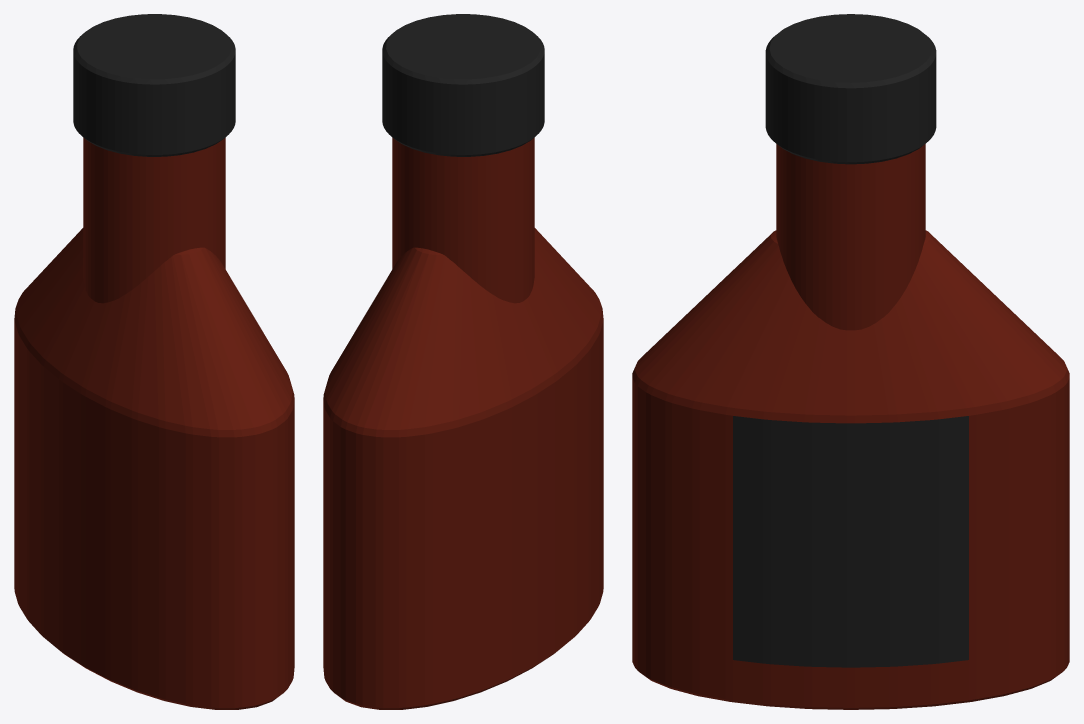
Rendered from BBQV1.fbx.
The picture shows the model from 3 angles, left to right: view 1: azimuth 30°, elevation 25°; view 2: azimuth 150°, elevation 25°; view 3: azimuth 270°, elevation 25°; orthographic projection. The views are drawn at different scales.
Parts seen in each view (by area): view 1: Cylinder.001; view 2: Cylinder.001; view 3: Cylinder.001.
Boxes of the visible parts, x1,y1,x2,y2 form: Cylinder.001: (14,14,294,709); Cylinder.001: (323,14,603,709); Cylinder.001: (632,14,1069,709).
Size of the model in its own units: 146 by 75.66 by 226.
